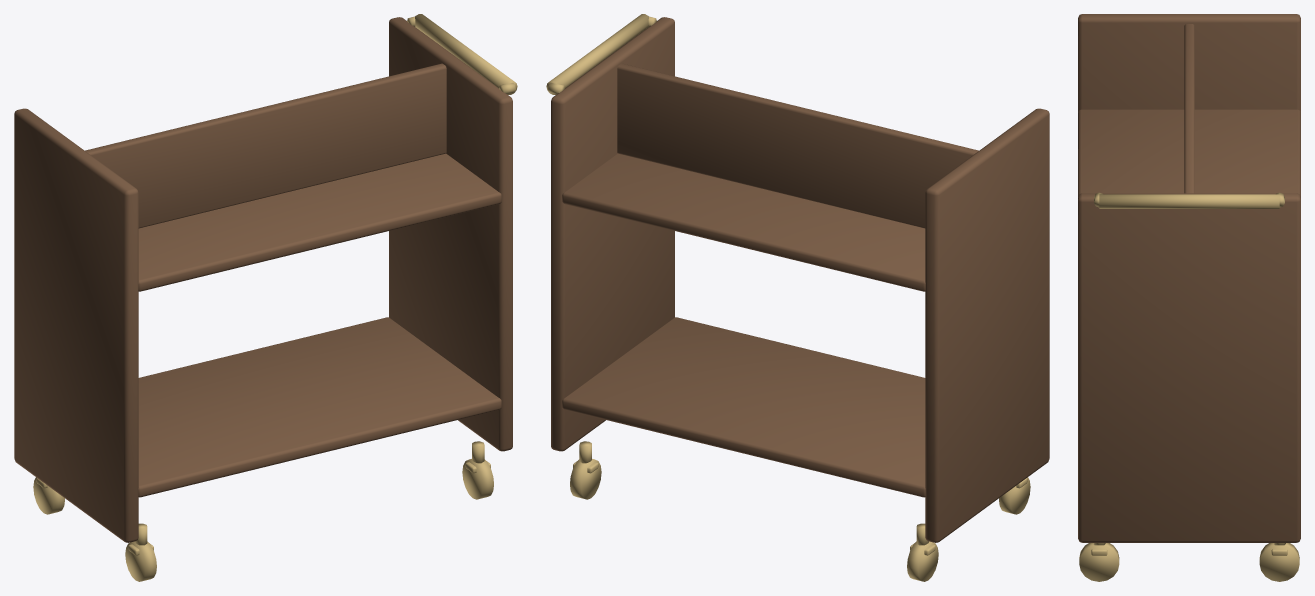
Rendered from fx_book_cart.glb.
3 renders of one model, left to right at view 1: azimuth 30°, elevation 25°; view 2: azimuth 150°, elevation 25°; view 3: azimuth 270°, elevation 25°, orthographic.
Visible parts, largest first — view 1: fx_book_cart; view 2: fx_book_cart; view 3: fx_book_cart.
Part boxes in pixels (x1,y1,x2,y2): fx_book_cart: [14, 14, 517, 581]; fx_book_cart: [546, 14, 1049, 581]; fx_book_cart: [1078, 14, 1300, 581].
Size of the model in its own units: 0.859 by 0.832 by 0.42.
